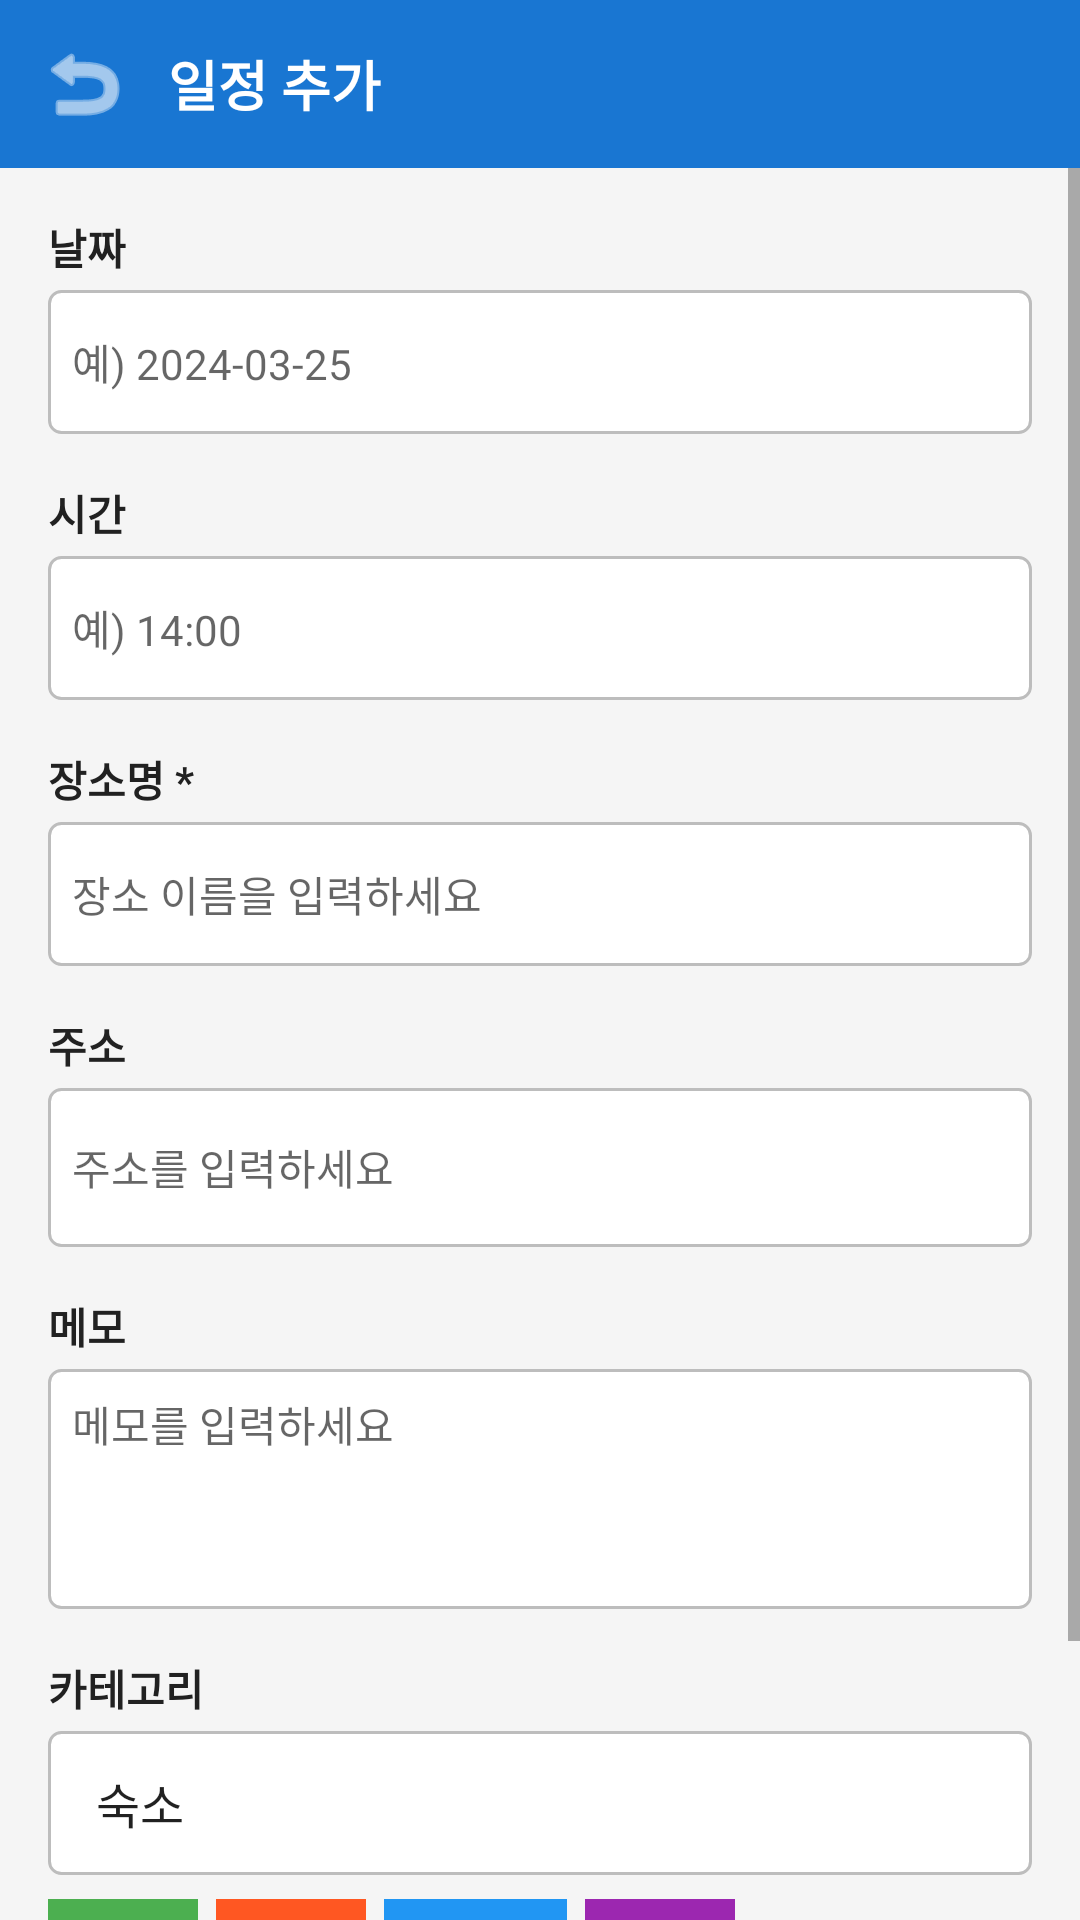

Locate icon controls on the screen. Image size 1080px x 1920px, boxes as (x1, y1, x2, y2).
뒤로가기: (51, 53, 120, 116)
